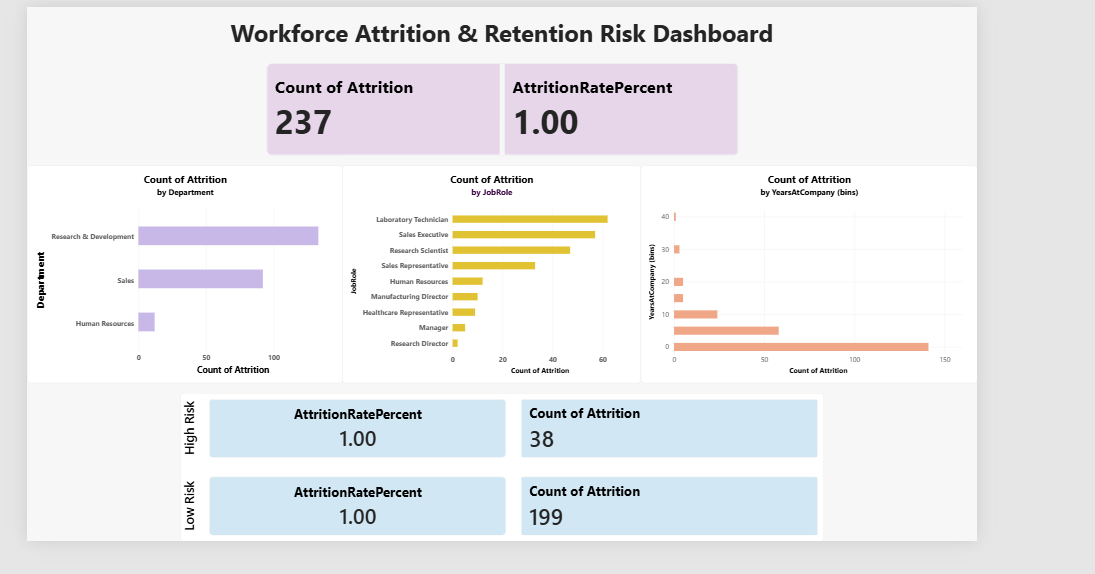

The page's visual inventory and layout, read from the dashboard file:
{"tool":"powerbi","page":{"name":"Page 1","canvas":[1920,1080],"ordinal":0},"visuals":[{"type":"clusteredBarChart","fields":{"Category":["IBM.Department"],"Y":["CountNonNull(IBM.Attrition)"]},"box":[0,320,638.3,440],"z":0},{"type":"clusteredBarChart","fields":{"Category":["IBM.JobRole"],"Y":["CountNonNull(IBM.Attrition)"]},"box":[635,320,603.3,440],"z":1000},{"type":"clusteredBarChart","fields":{"Category":["IBM.YearsAtCompany (bins)"],"Y":["CountNonNull(IBM.Attrition)"]},"box":[1240,320,680,440],"z":2000},{"type":"cardVisual","fields":{"Data":["CountNonNull(IBM.Attrition)","IBM.OverallAttritionRate"]},"box":[540,90,860,186.7],"z":3000},{"type":"cardVisual","fields":{"Data":["CountNonNull(IBM.Attrition)"],"Rows":["IBM.EmployeeRiskFlag","IBM.EmployeeRiskFlag"]},"box":[700,780,473.3,300],"z":4000},{"type":"textbox","box":[115,0,1685,90],"z":5000},{"type":"textbox","box":[23.3,836.7,643.3,186.7],"z":6000}]}

Visuals, with their boxes on the page's 1920x1080 design canvas (x1, y1, x2, y2). These are canvas units, not pixel positions in the 1095x574 screenshot, which may show the page scaled, cropped or inside an application window:
clusteredBarChart - IBM.Department x CountNonNull(IBM.Attrition): 0,320,638,760
clusteredBarChart - IBM.JobRole x CountNonNull(IBM.Attrition): 635,320,1238,760
clusteredBarChart - IBM.YearsAtCompany (bins) x CountNonNull(IBM.Attrition): 1240,320,1920,760
cardVisual - CountNonNull(IBM.Attrition) x IBM.OverallAttritionRate: 540,90,1400,277
cardVisual - CountNonNull(IBM.Attrition) x IBM.EmployeeRiskFlag: 700,780,1173,1080
textbox: 115,0,1800,90
textbox: 23,837,667,1023
